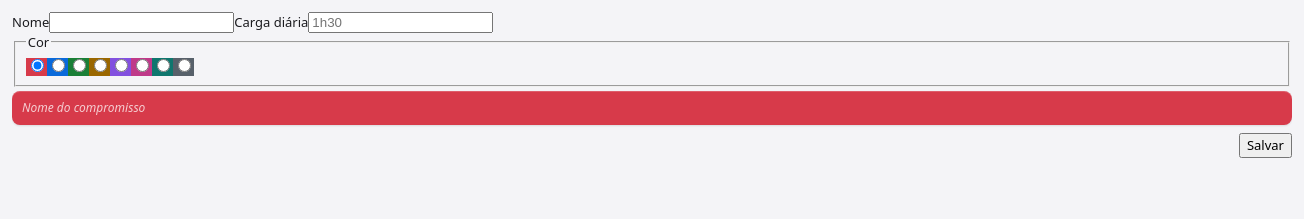
it: commitment form › shows an error and creates nothing when the name is empty
Click the button "Salvar": (1265, 145) [1239,133,1292,158]
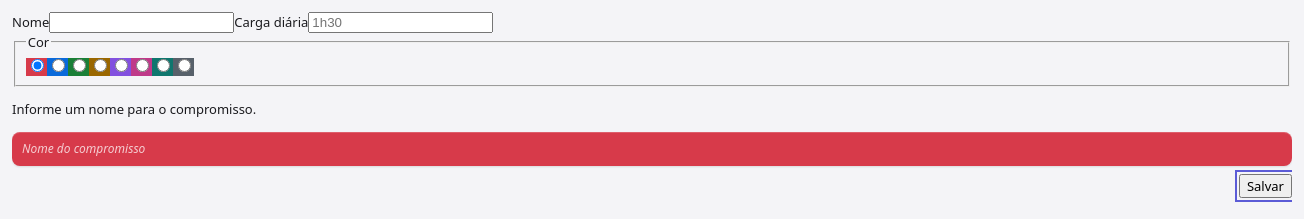
Check: the message shows "nome", box [12,100,256,118]
